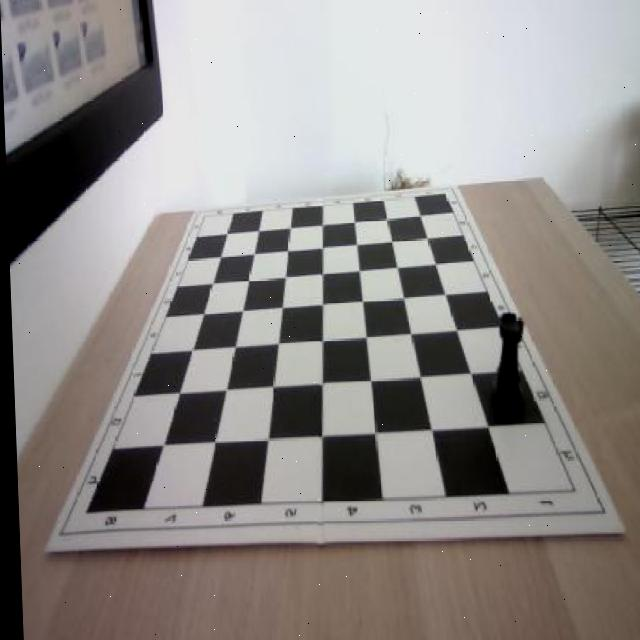black-queen: (482, 312, 526, 420)
